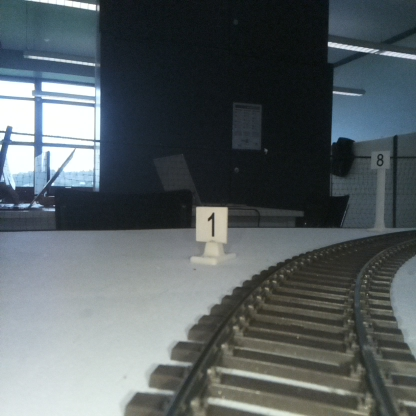white-info-8: (370, 151, 390, 230)
white-stop-1: (196, 206, 227, 262)
